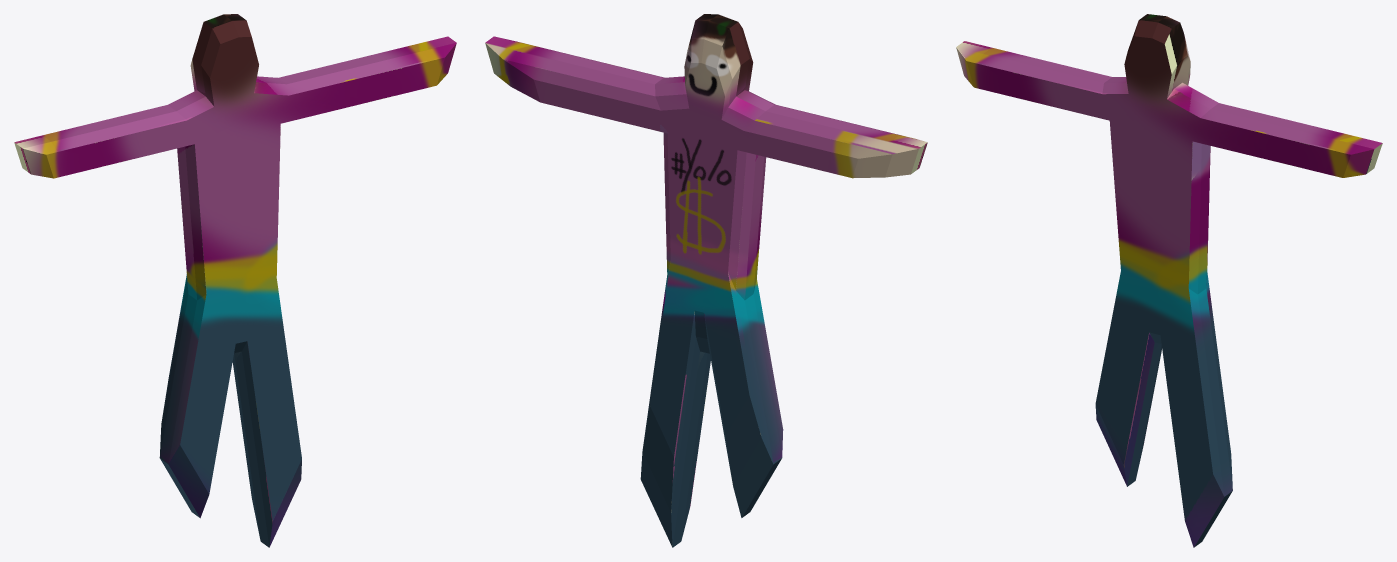
Rendered from BADDUDE01-MODEL.fbx.
3 renders of one model, left to right at view 1: azimuth 30°, elevation 25°; view 2: azimuth 150°, elevation 25°; view 3: azimuth 330°, elevation 25°, orthographic. The views are drawn at different scales.
Visible parts, largest first — view 1: Cube; view 2: Cube; view 3: Cube.
Part boxes in pixels (<box>): Cube: <box>14,14,456,547</box>; Cube: <box>485,14,927,547</box>; Cube: <box>956,14,1382,547</box>.
Bounding box in the file's own units: 7.84 × 9.26 × 0.7063.
Materials: 1 (1 with a texture image).
